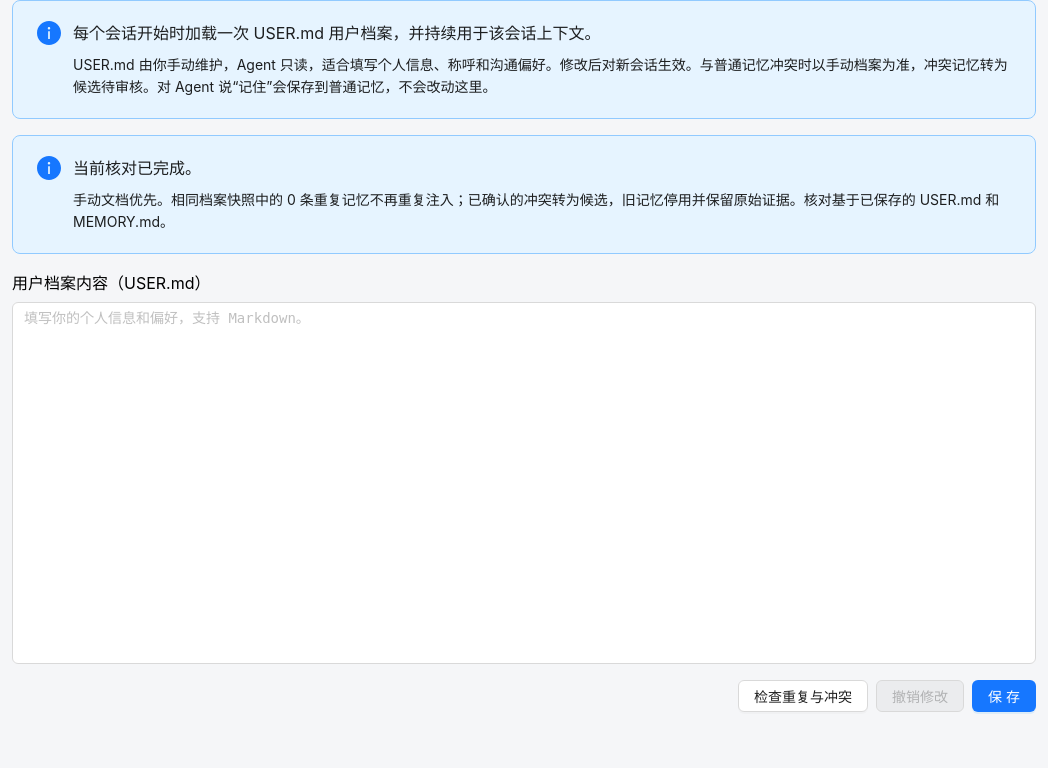
Test: Strong memory › keeps a successful profile save when semantic review is unavailable
In the text box labelled "用户档案内容（USER.md）": (524, 483) [12,302,1036,664], type "新档案"
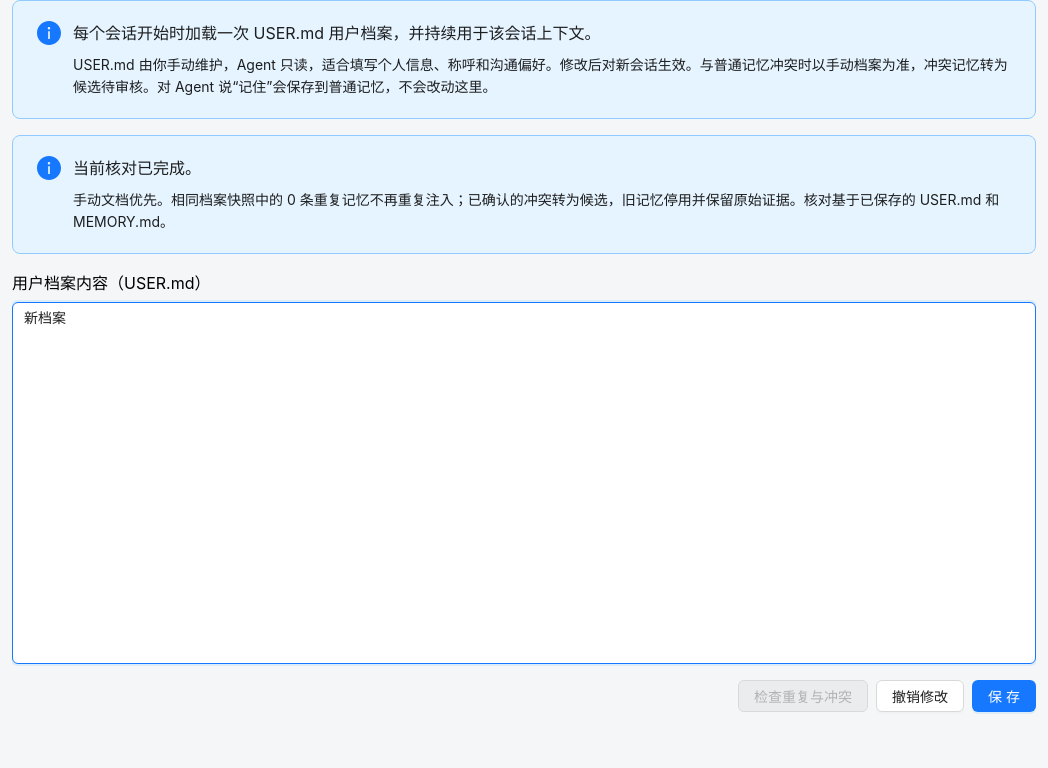
Click the button "保 存": (1004, 696) [972,680,1036,712]
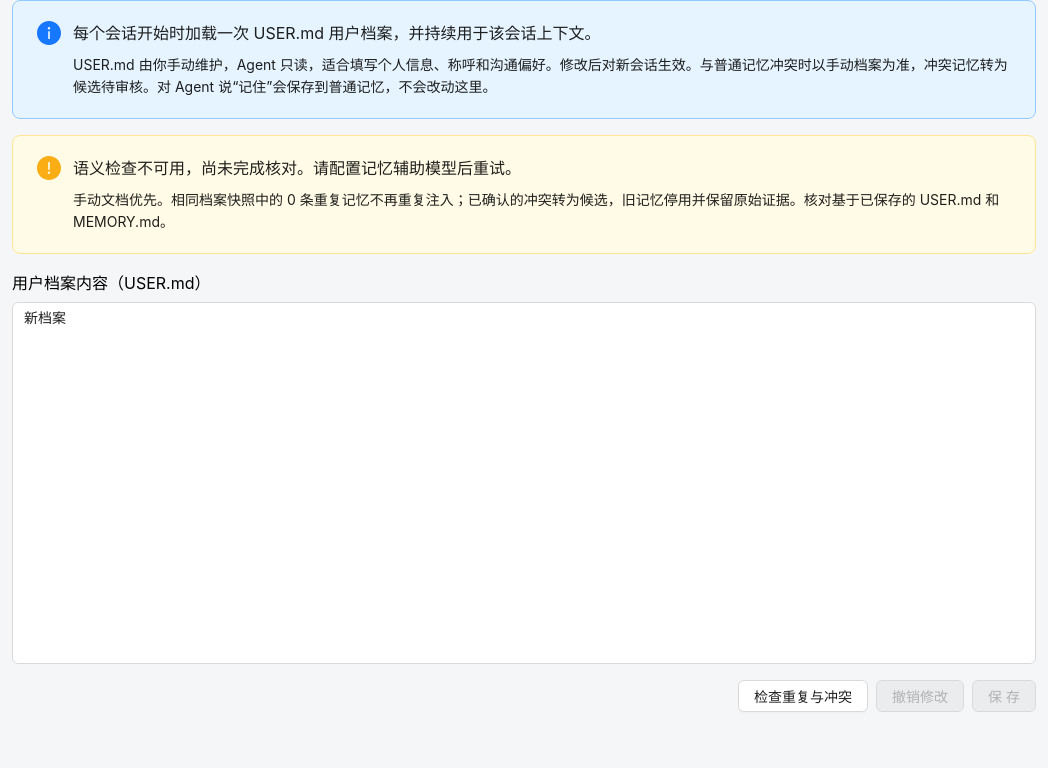
Result: the text "语义检查不可用，尚未完成核对。请配置记忆辅助模型后重试。" is shown at [73,158,521,178]
